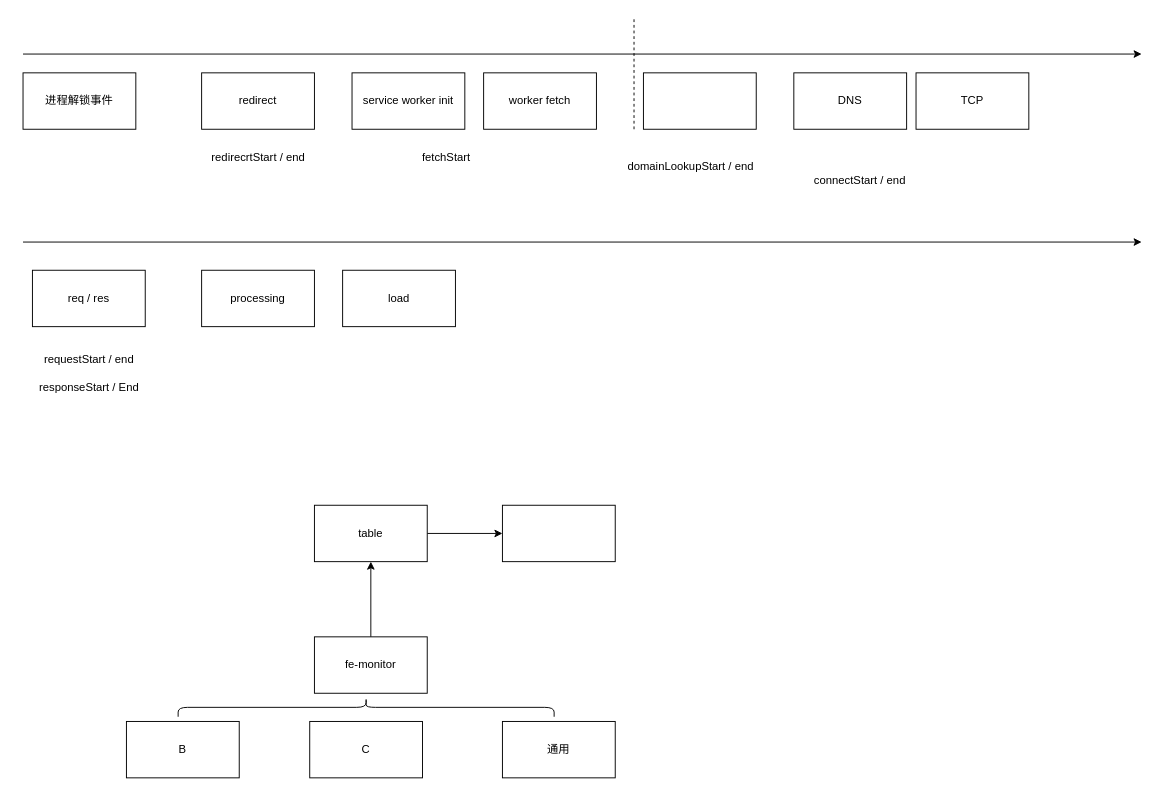
This 1166x794 diagram has some shape labels left out. Here are the shapes that lost their labels. From the top down, the box of each, then its label:
(642, 72, 756, 129): HTTP catch
(501, 504, 615, 562): 可视化工具
